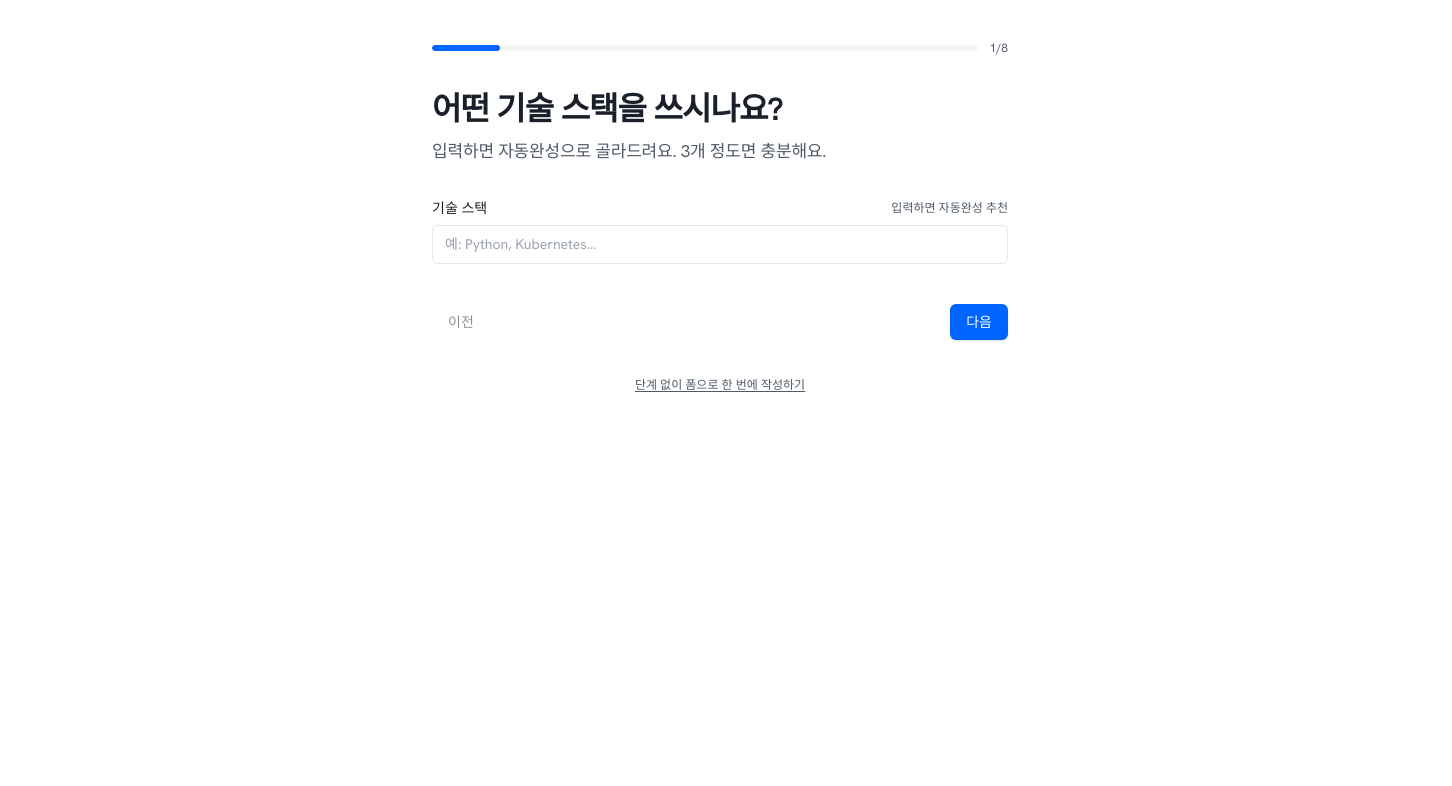
it: ProfileEditor › falls back to the plain form when the wizard skip link is clicked
Expected: the heading "어떤 기술 스택을 쓰시나요?" is shown, x1=432 y1=88 x2=783 y2=130
Click the button "단계 없이 폼으로 한 번에 작성하기".
click(720, 385)  # box x1=635 y1=377 x2=805 y2=393
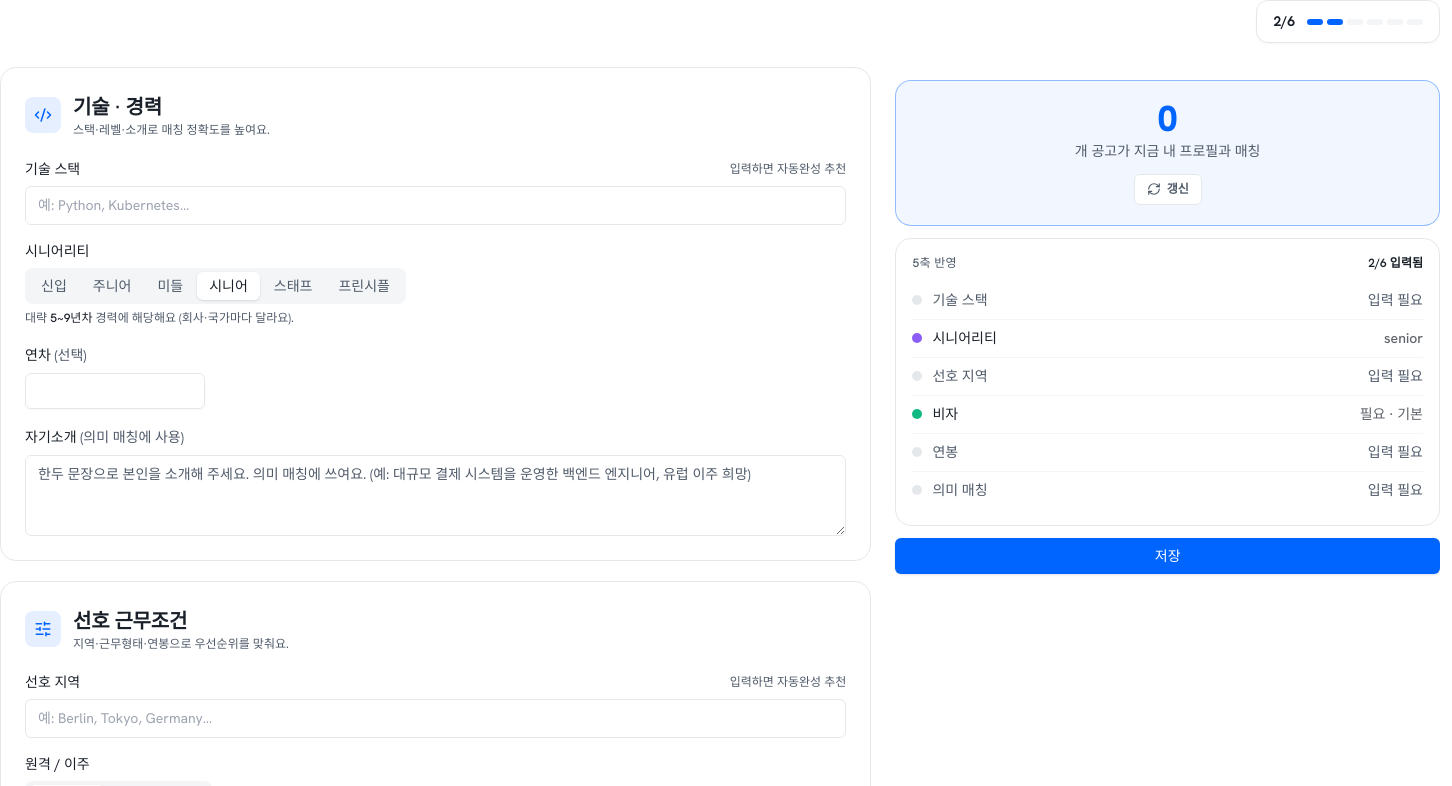
Expected: the dropdown labelled "기술 스택" is shown, x1=34 y1=195 x2=837 y2=216
Expected: the heading "어떤 기술 스택을 쓰시나요?" is gone
